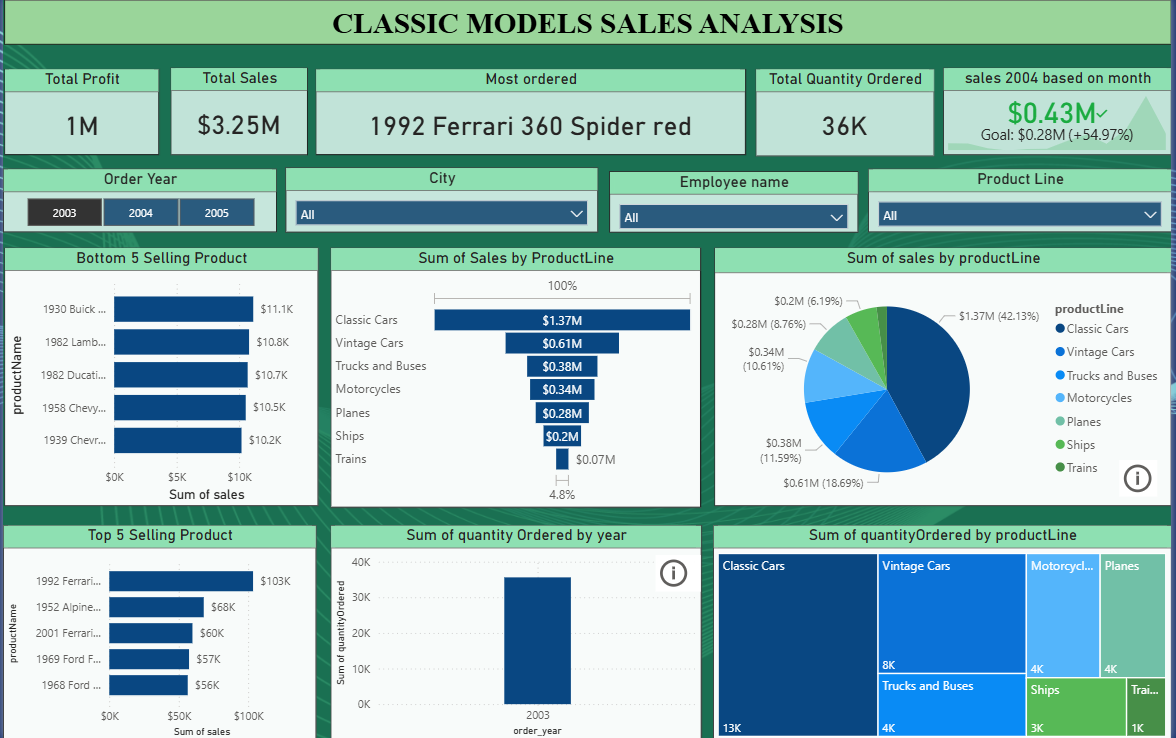

Layout of this report page (visuals, bound fields, positions):
{"tool":"powerbi","page":{"name":"Page 1","canvas":[1280,817],"ordinal":0},"visuals":[{"type":"barChart","title":"Top 5 Selling Product","fields":{"Y":["order_details.sales"],"Category":["products.productName"]},"box":[0,580.4,343.1,237.4],"z":0},{"type":"treemap","fields":{"Values":["order_details.quantityOrdered"],"Group":["product line.productLine"]},"box":[777.7,580.2,502.3,236.5],"z":1000},{"type":"pieChart","fields":{"Y":["order_details.sales"],"Category":["product line.productLine"]},"box":[778.9,276.5,501,283.4],"z":2000},{"type":"columnChart","title":"Sum of quantity Ordered by year","fields":{"Y":["order_details.quantityOrdered"],"Category":["orders.order_year"]},"box":[358.1,580.4,406.2,236],"z":3000},{"type":"kpi","title":"sales 2004 based on month","fields":{"Indicator":["orders.sales_2004"],"Goal":["orders.sales_2003"],"TrendLine":["orders.Month Name"]},"box":[1029.5,79.4,250.5,95.8],"z":4000},{"type":"card","title":"Total Sales","fields":{"Values":["order_details.sales"]},"box":[183.4,79.4,150.6,95.8],"z":5000},{"type":"card","title":"Total Quantity Ordered","fields":{"Values":["order_details.quantityOrdered"]},"box":[824.1,80.8,195.8,95.8],"z":6000},{"type":"card","title":"Total Profit","fields":{"Values":["order_details.total_profit"]},"box":[1.4,80.8,169.8,94.5],"z":7000},{"type":"funnel","title":"Sum of Sales by ProductLine","fields":{"Category":["product line.productLine"],"Y":["order_details.sales"]},"box":[358.7,276.5,405.2,284.7],"z":8000},{"type":"slicer","title":"Order Year","fields":{"Values":["orders.order_year"]},"box":[0,190.3,299.8,69.8],"z":9000},{"type":"slicer","title":"City","fields":{"Values":["offices.city"]},"box":[309.4,188.9,342.2,71.2],"z":10000},{"type":"slicer","title":"Employee name","fields":{"Values":["employee.full name"]},"box":[664,193,272.4,67.1],"z":11000},{"type":"slicer","title":"Product Line","fields":{"Values":["product line.productLine"]},"box":[947.3,190.3,332.7,69.8],"z":12000},{"type":"textbox","box":[1.4,0,1278.6,54.8],"z":13000},{"type":"barChart","title":"Bottom 5 Selling Product","fields":{"Y":["order_details.sales"],"Category":["products.productName"]},"box":[1.4,276.5,343.6,283.4],"z":14000},{"type":"card","title":"Most ordered","fields":{"Values":["classicmodels.most_ordered"]},"box":[342.2,80.8,470.9,94.5],"z":15000},{"type":"actionButton","box":[1223,509.2,41.7,40.3],"z":16000},{"type":"actionButton","box":[714.6,613.3,49.3,39.7],"z":17000}]}

Visuals, with their boxes in screenshot pixels (x1, y1, x2, y2), scaled from the page's 1280x817 canvas onto the 1176x738 screenshot:
"Top 5 Selling Product" barChart: x1=0, y1=524, x2=315, y2=737
treemap - order_details.quantityOrdered x product line.productLine: x1=715, y1=524, x2=1175, y2=737
pieChart - order_details.sales x product line.productLine: x1=716, y1=250, x2=1175, y2=506
"Sum of quantity Ordered by year" columnChart: x1=329, y1=524, x2=702, y2=737
"sales 2004 based on month" kpi: x1=946, y1=72, x2=1175, y2=158
"Total Sales" card: x1=168, y1=72, x2=307, y2=158
"Total Quantity Ordered" card: x1=757, y1=73, x2=937, y2=160
"Total Profit" card: x1=1, y1=73, x2=157, y2=158
"Sum of Sales by ProductLine" funnel: x1=330, y1=250, x2=702, y2=507
"Order Year" slicer: x1=0, y1=172, x2=275, y2=235
"City" slicer: x1=284, y1=171, x2=599, y2=235
"Employee name" slicer: x1=610, y1=174, x2=860, y2=235
"Product Line" slicer: x1=870, y1=172, x2=1175, y2=235
textbox: x1=1, y1=0, x2=1175, y2=50
"Bottom 5 Selling Product" barChart: x1=1, y1=250, x2=317, y2=506
"Most ordered" card: x1=314, y1=73, x2=747, y2=158
actionButton: x1=1124, y1=460, x2=1162, y2=496
actionButton: x1=657, y1=554, x2=702, y2=590
